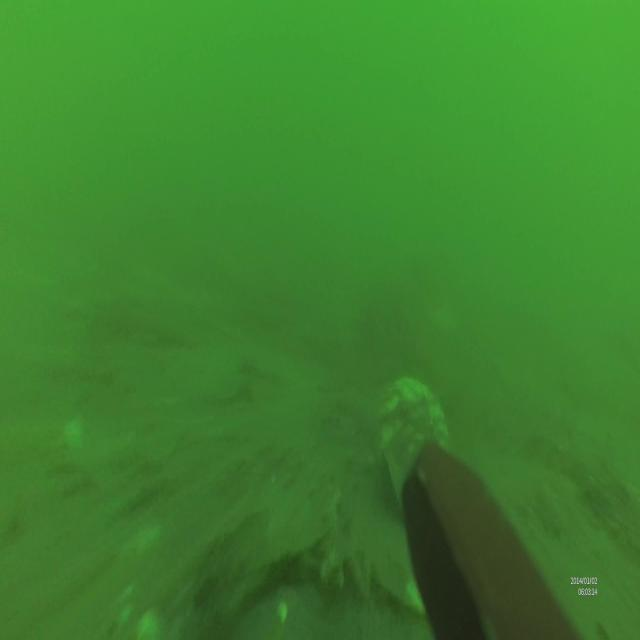scallop: (378, 376, 449, 464)
